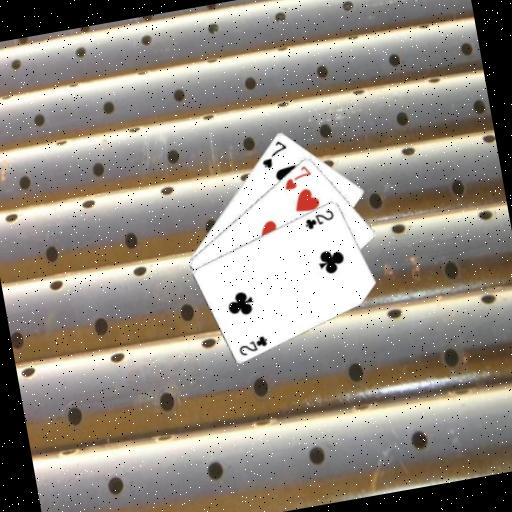2C: (300, 205, 337, 231), (234, 332, 271, 358)
7H: (278, 161, 314, 192)
7S: (256, 136, 291, 171)
